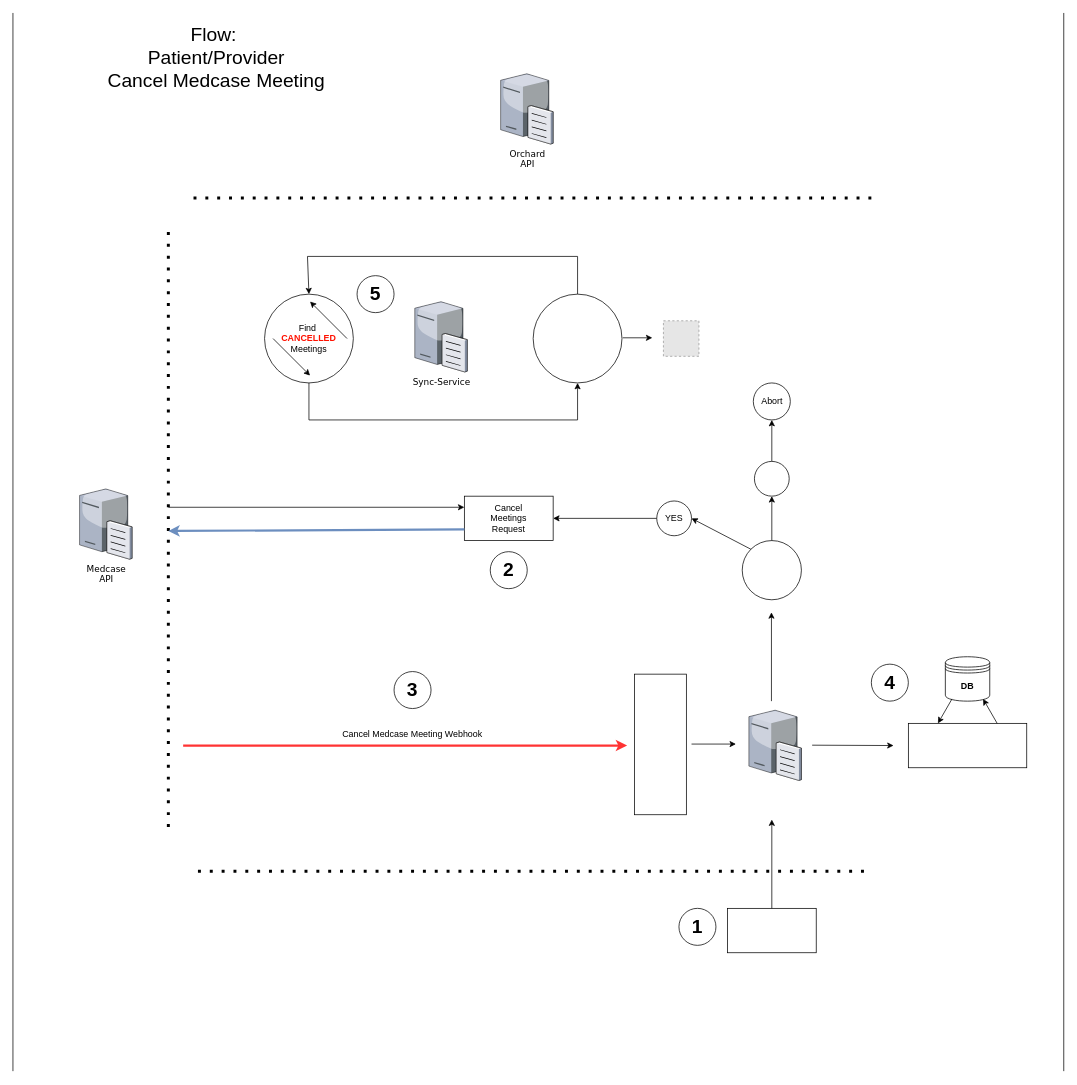
Some shapes in this 1077 by 1085 pixel diagram are drawn without their labels. Grey dashed boxes stand in for pictures. The shapes that lost their labels are listed below. From the top down, each one's centre as x and y in pixels, then its label:
pixel 577 338: Send Email Notifications
pixel 771 478: NO
pixel 771 570: Is existing Meeting ?
pixel 660 744: MC WebHooks
pixel 775 744: Renegade API
pixel 967 745: Update Meeting Status CANCELLED
pixel 771 930: Cancel Meeting Request
